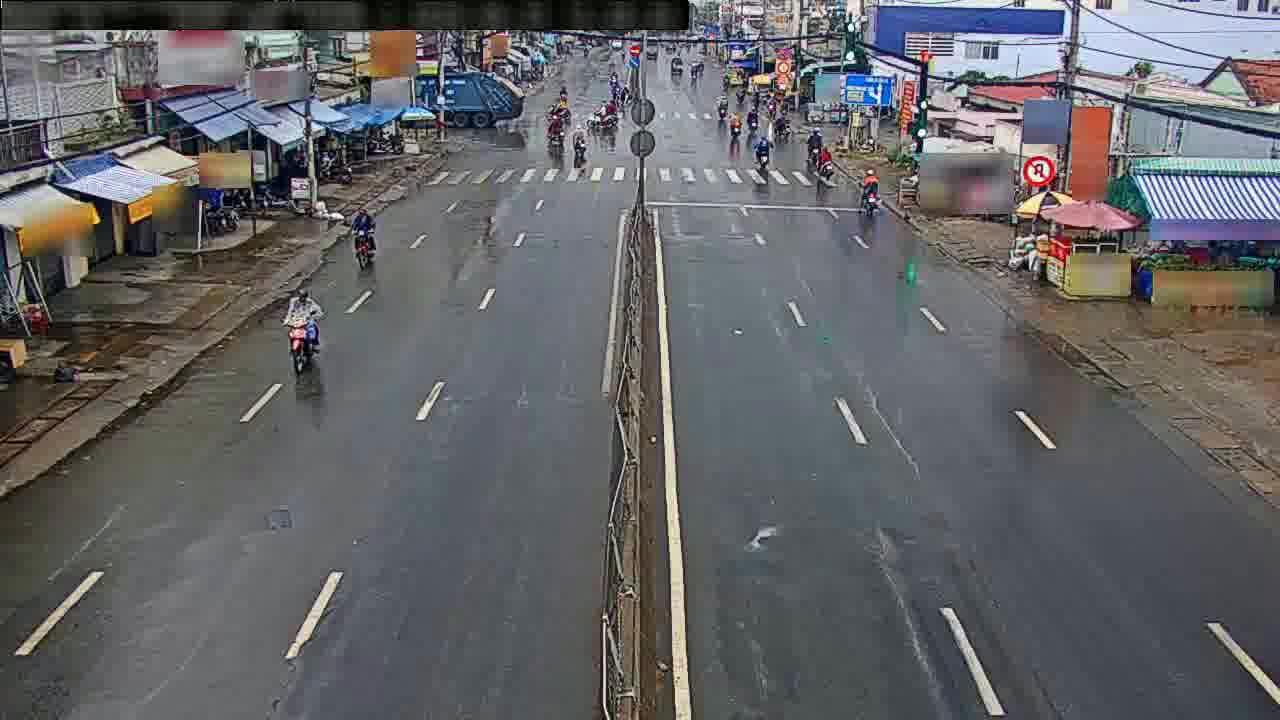motorbike: (281, 290, 330, 378), (347, 207, 383, 276), (859, 163, 885, 217), (565, 125, 589, 161), (814, 141, 836, 178), (751, 131, 773, 166)
